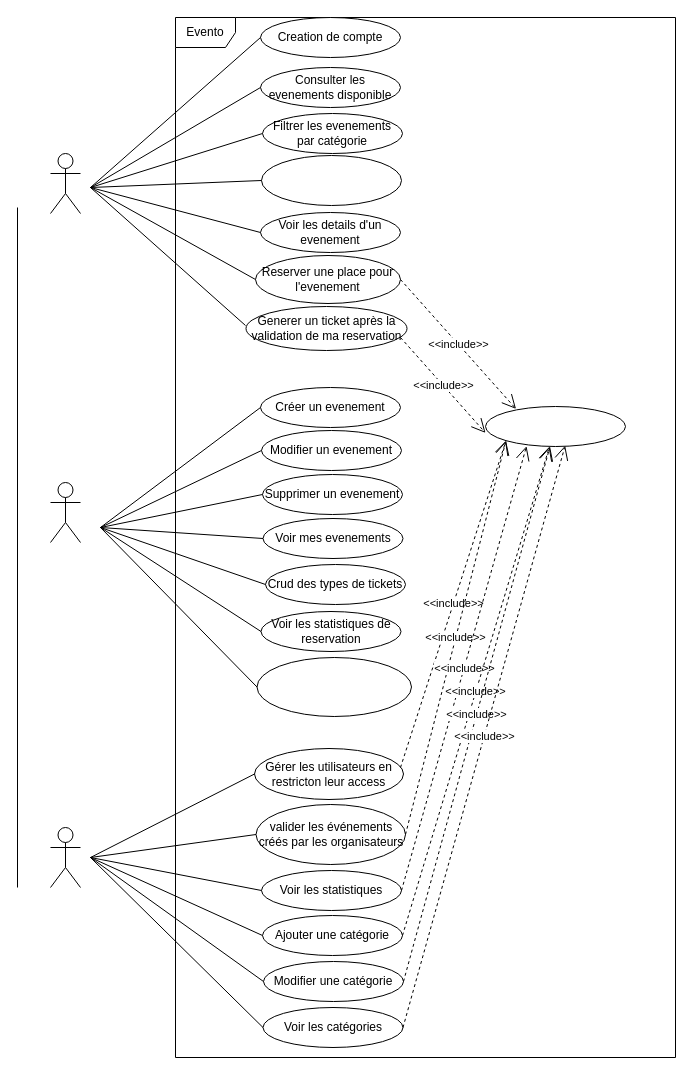
The diagram is 693 pixels wide and 1075 high, and some of its shapes have lost their labels. Each missing label, with the centre of its shape:
"Admin" goes at pixel 65 857.
"Choisir une acceptation automatique ou la validation" goes at pixel 334 686.
"Faire des recherche par titre" goes at pixel 331 180.
"Log in/ register" goes at pixel 555 426.
"Orgasinateur" goes at pixel 65 512.
"Utilisateur" goes at pixel 65 183.
